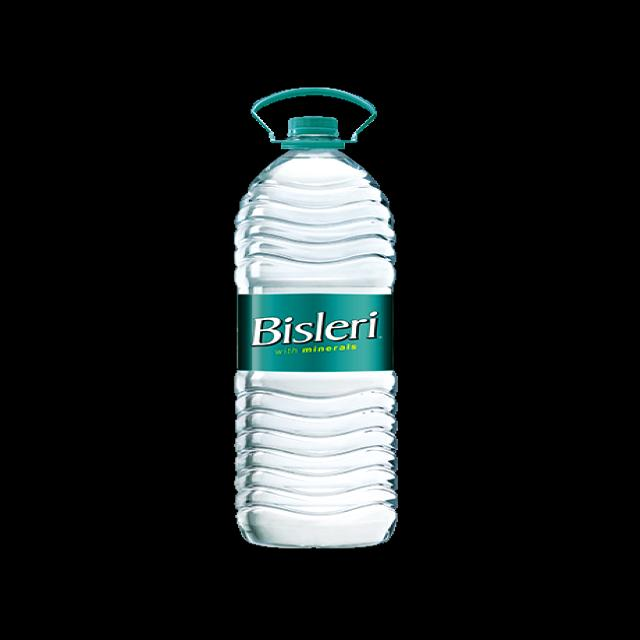full-bottle: (226, 84, 406, 554)
